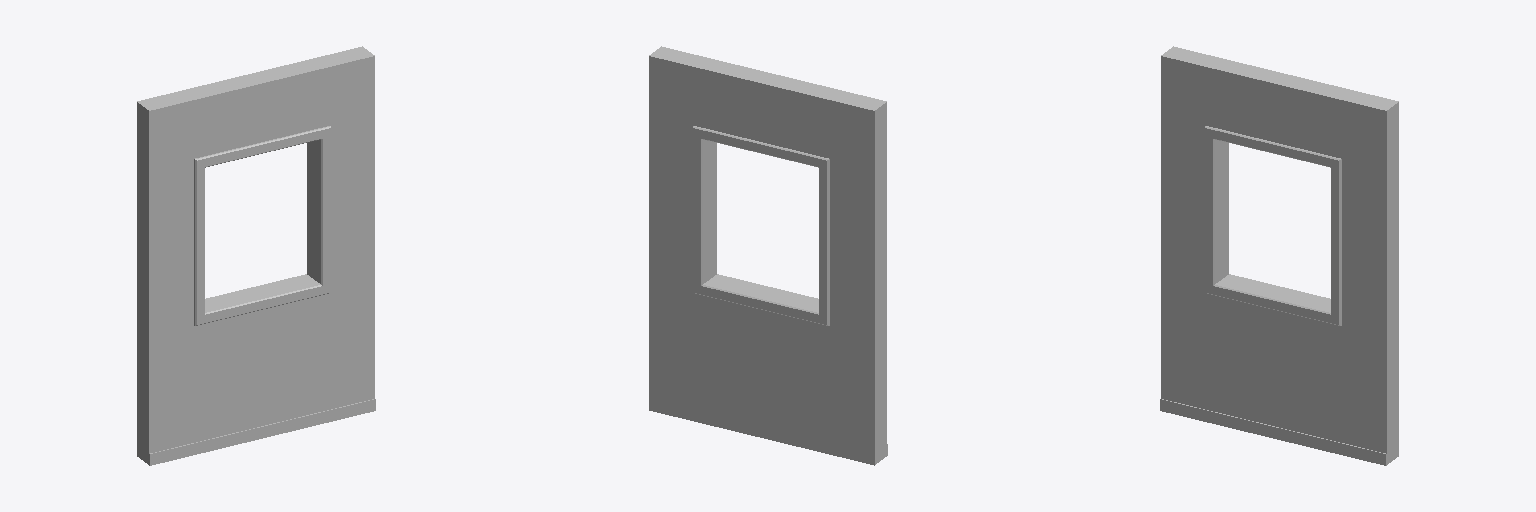
Rendered from Muro_finestra.obj.
3 views of the same model, side by side, from view 1: azimuth 30°, elevation 25°; view 2: azimuth 150°, elevation 25°; view 3: azimuth 330°, elevation 25° (orthographic).
Parts seen in each view (by area): view 1: Muro_finestra; view 2: Muro_finestra; view 3: Muro_finestra.
Part boxes in pixels (bbox=[...]): Muro_finestra: bbox=[137, 46, 375, 465]; Muro_finestra: bbox=[649, 46, 887, 465]; Muro_finestra: bbox=[1160, 46, 1398, 465].
Bounding box in the file's own units: 2 × 3 × 0.242.